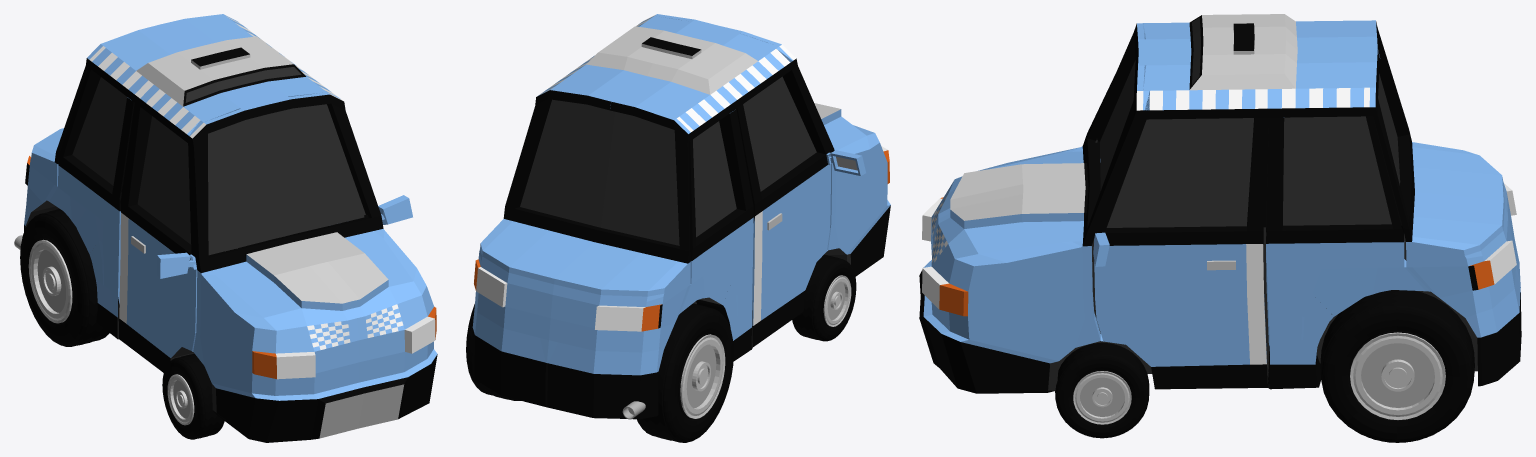
The picture shows the model from 3 angles, left to right: view 1: azimuth 30°, elevation 25°; view 2: azimuth 150°, elevation 25°; view 3: azimuth 270°, elevation 25°; orthographic projection. The views are drawn at different scales.
Parts seen in each view (by area): view 1: BODY26B, WHEEL.002, WHEEL.001; view 2: BODY26B, WHEEL.002, WHEEL.001, WHEEL.004; view 3: BODY26B, WHEEL.004, WHEEL.003.
Part boxes in pixels (x1,y1,x2,y2): BODY26B: [24, 14, 437, 442]; WHEEL.002: [20, 209, 109, 346]; WHEEL.001: [162, 353, 224, 439]; BODY26B: [472, 14, 890, 419]; WHEEL.002: [637, 303, 733, 442]; WHEEL.001: [792, 254, 856, 341]; WHEEL.004: [466, 304, 520, 400]; BODY26B: [919, 14, 1521, 393]; WHEEL.004: [1320, 290, 1474, 442]; WHEEL.003: [1055, 342, 1149, 438].
Bounding box in the file's own units: 136 × 161 × 249.
